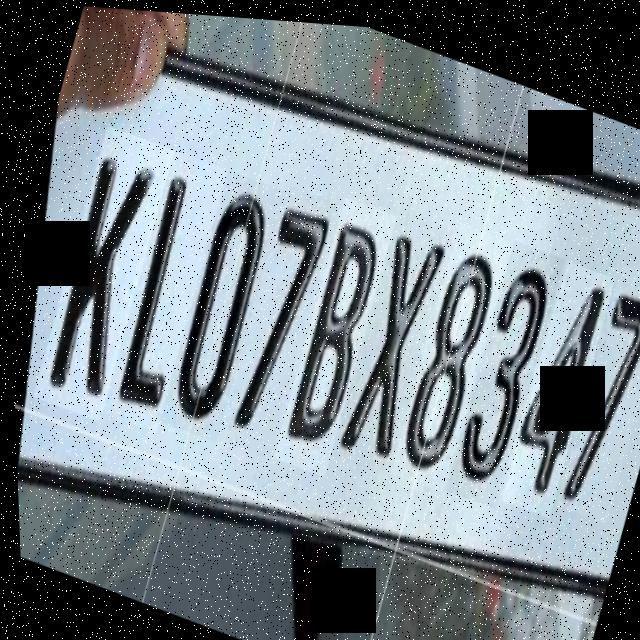0: (147, 161, 290, 443)
3: (434, 227, 570, 506)
4: (490, 248, 619, 514)
7: (204, 175, 343, 459), (544, 249, 640, 517)
8: (379, 211, 516, 490)
B: (262, 187, 402, 477)
K: (22, 119, 181, 425)
L: (88, 142, 234, 435)
X: (321, 199, 460, 476)
